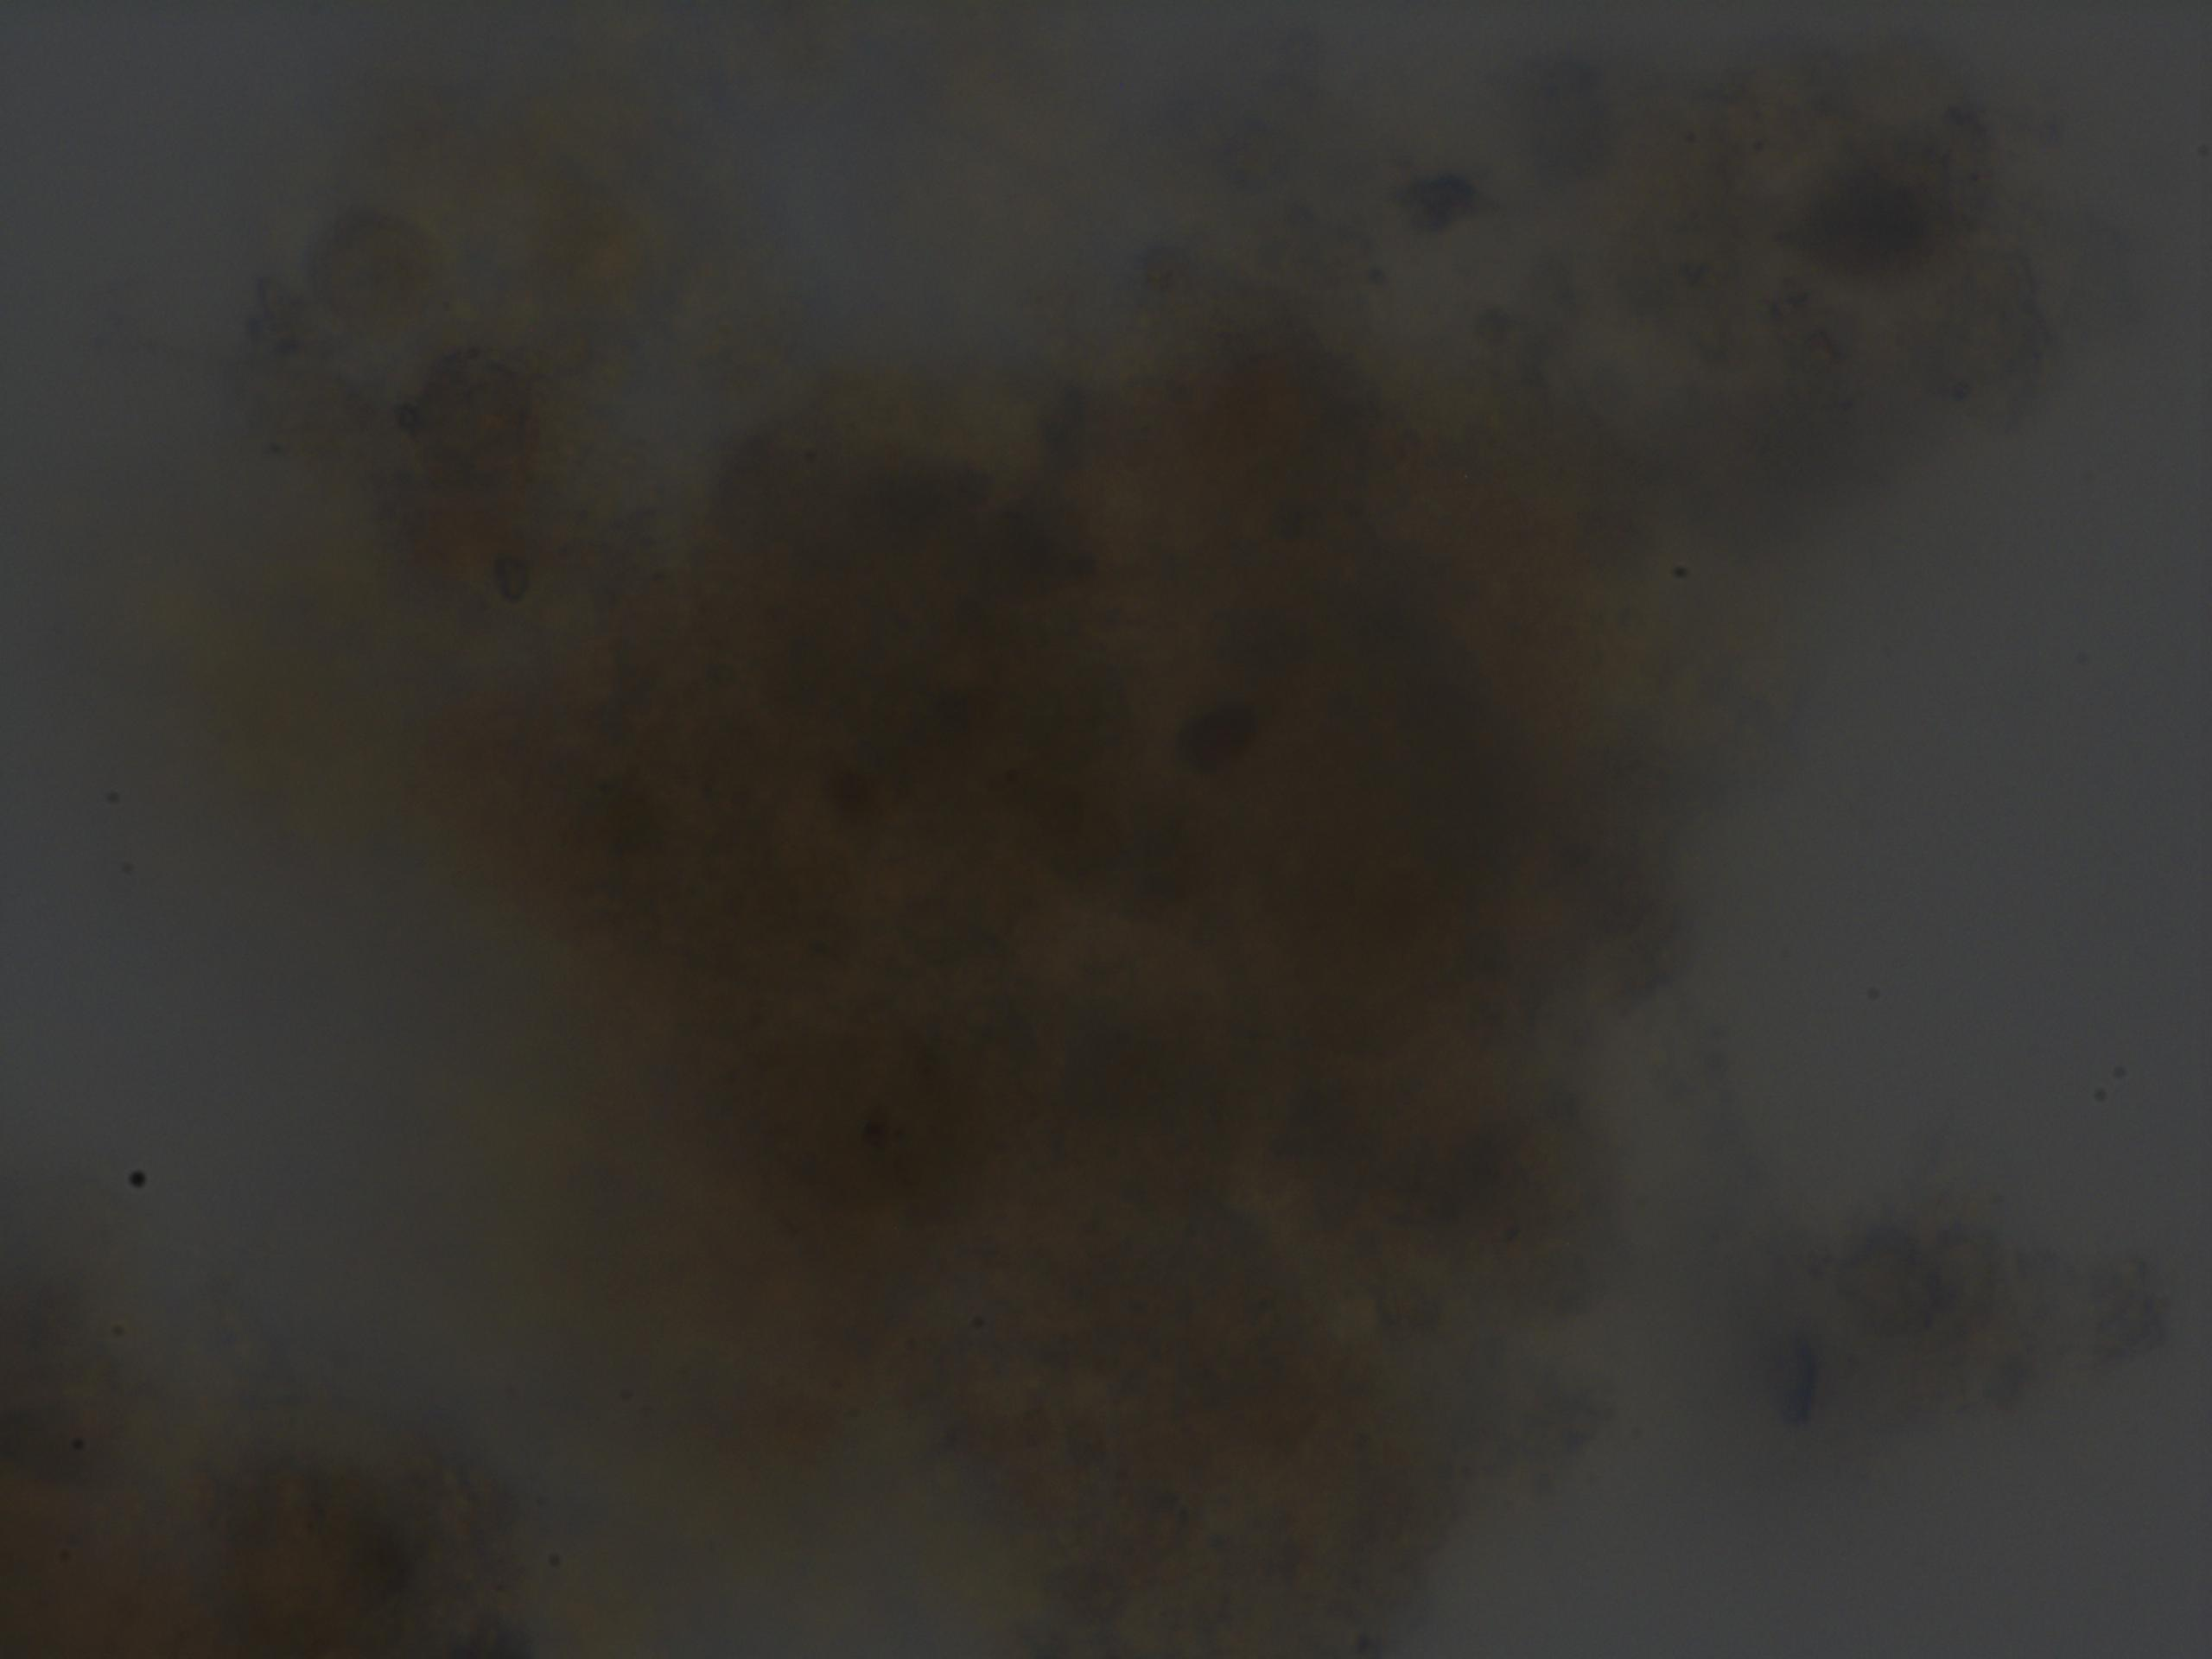spherical_floc: (451, 260, 1698, 1659)
